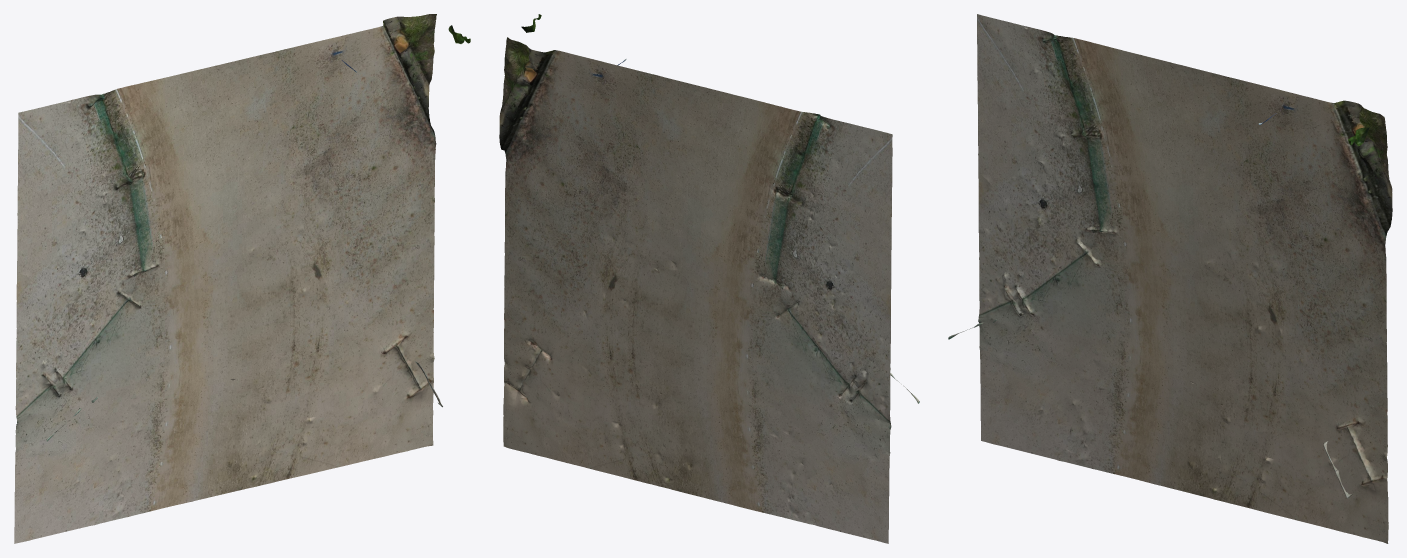
File: Tile_+023_+010.fbx
3 renders of one model, left to right at view 1: azimuth 30°, elevation 25°; view 2: azimuth 150°, elevation 25°; view 3: azimuth 330°, elevation 25°, orthographic. The views are drawn at different scales.
Visible parts, largest first — view 1: DefaultName; view 2: DefaultName; view 3: DefaultName.
Part boxes in pixels (bbox=[...]): DefaultName: bbox=[14, 14, 470, 543]; DefaultName: bbox=[499, 14, 919, 543]; DefaultName: bbox=[948, 14, 1392, 543].
Bounding box in the file's own units: 22.54 × 22.54 × 3.95.
